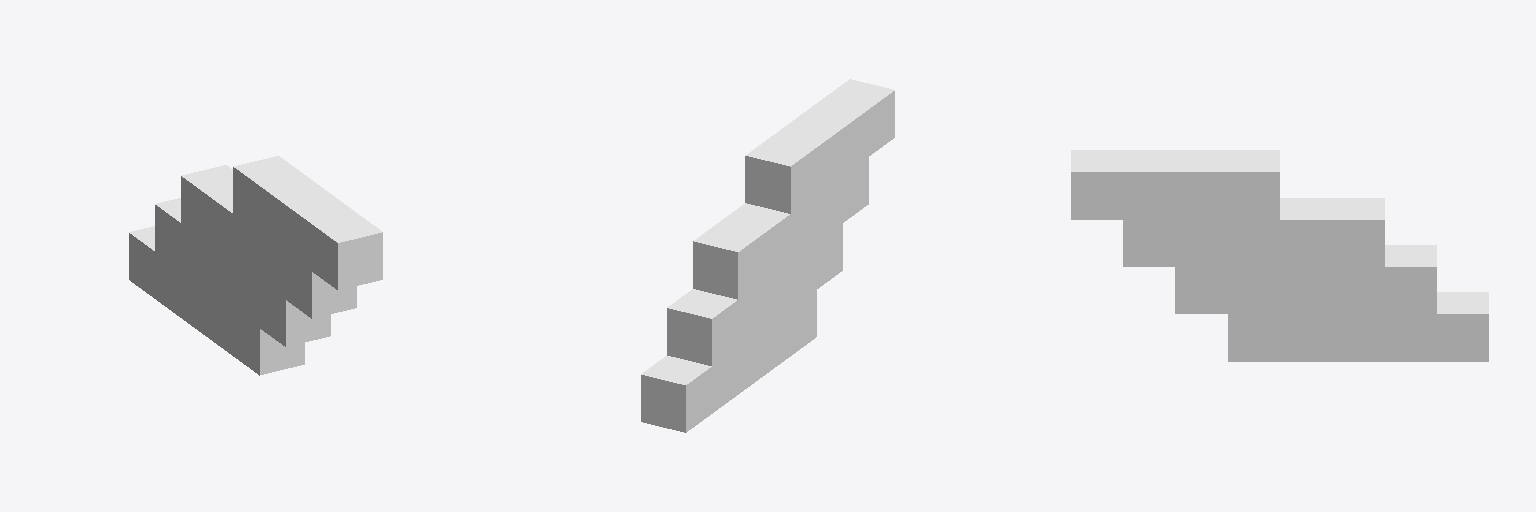
Rendered from Extra-21-RedFighter_ThrusterWing_Bottom_L.obj.
3 views of the same model, side by side, from view 1: azimuth 30°, elevation 25°; view 2: azimuth 150°, elevation 25°; view 3: azimuth 270°, elevation 25° (orthographic).
Visible parts, largest first — view 1: RedFighter_ThrusterWing_Bottom_L; view 2: RedFighter_ThrusterWing_Bottom_L; view 3: RedFighter_ThrusterWing_Bottom_L.
Boxes of the visible parts, box(x1,y1,x2,y2) form: RedFighter_ThrusterWing_Bottom_L: box(129, 156, 382, 375); RedFighter_ThrusterWing_Bottom_L: box(641, 79, 894, 432); RedFighter_ThrusterWing_Bottom_L: box(1071, 150, 1488, 361).
Size of the model in its own units: 0.1 by 0.4 by 0.8.